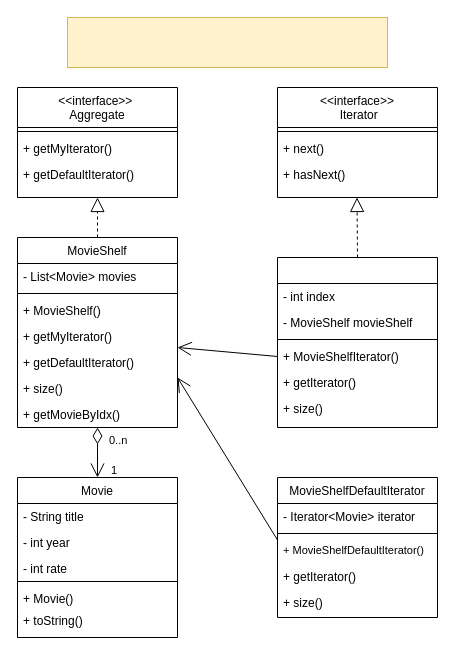
This 455x655 diagram has some shape labels left out. The box of each missing label's shape, as (x1, y1, x2, y2) in pixels:
[Iterator 패턴] 영화 목록 예제 2가지 기능 구현: (66, 16, 388, 68)
MovieShelfMyIterator: (276, 256, 438, 428)
